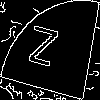Z: (25, 25, 59, 77)
